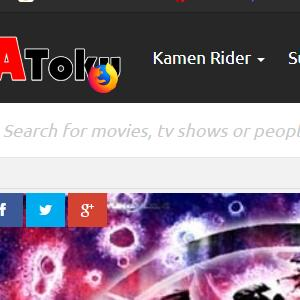firefox: (87, 62, 118, 94)
